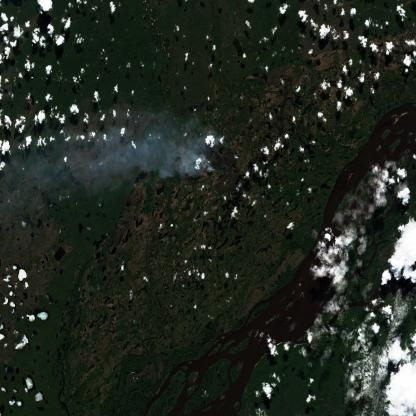fire: (203, 132, 234, 177)
